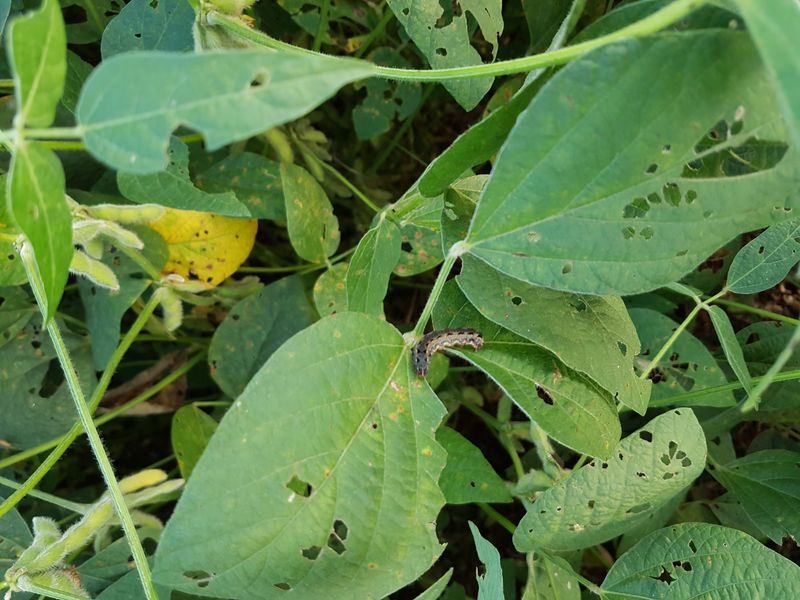Spodoptera_albula: (400, 320, 490, 384)
